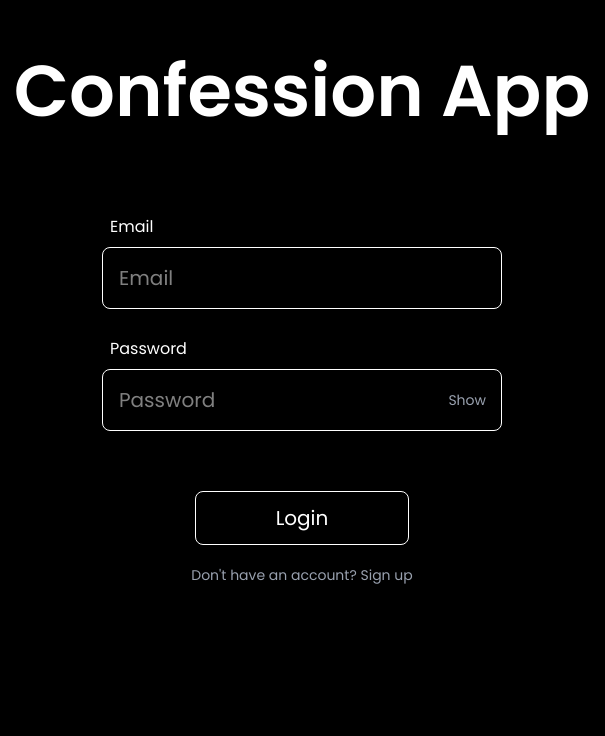
Test: Form › shows error for email already in use
The width and height of the screenshot is (605, 736).
Click the text "Don't have an account? Sign up" at (302, 575), box [191,565,413,585]
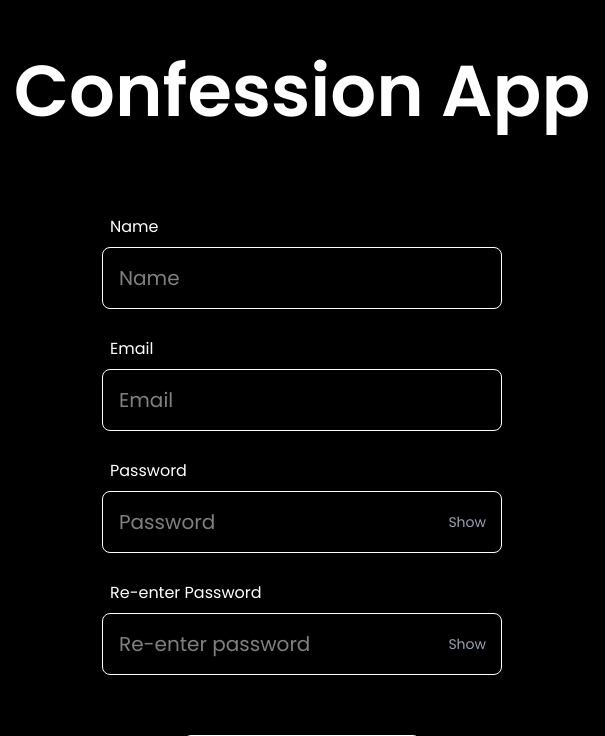
Type "taken@test.com" into the field with placeholder "Email" at (302, 400), box [102,369,502,431]
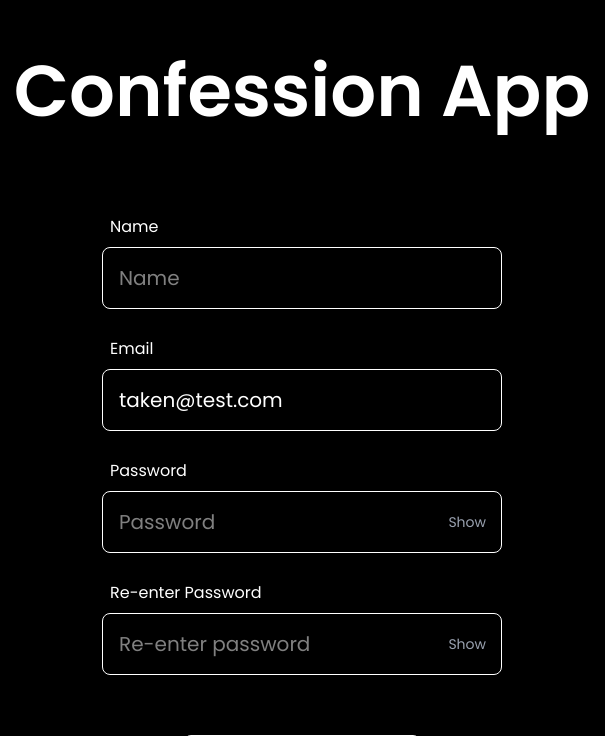
Type "123456" into the password field with placeholder "Password" at (302, 522), box [102,491,502,553]
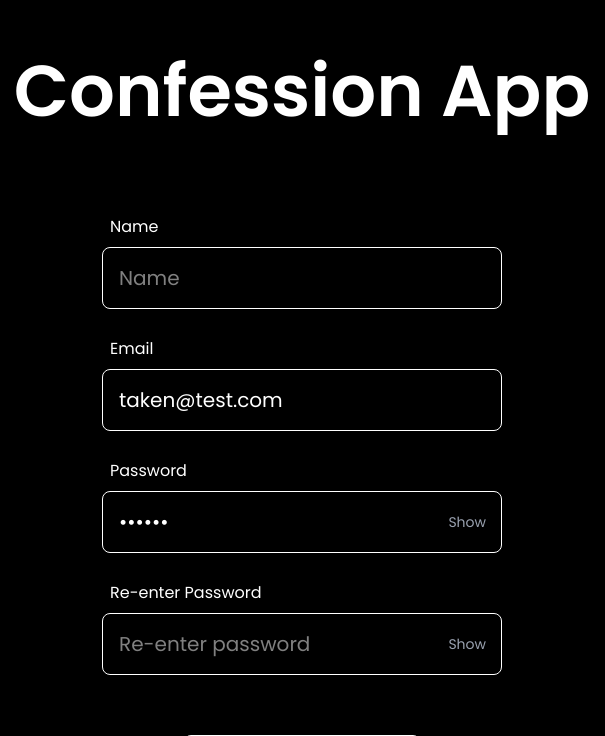
Type "Alice" into the field with placeholder "Name" at (302, 278), box [102,247,502,309]
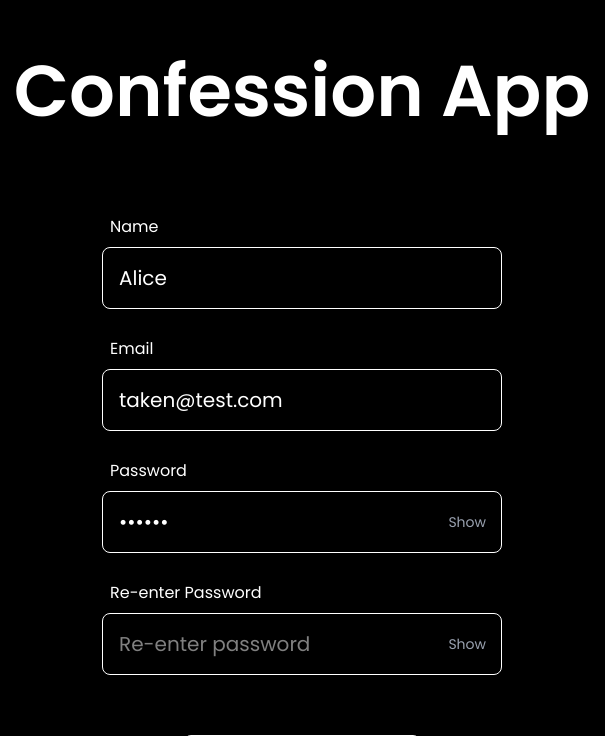
Type "123456" into the password field with placeholder "Re-enter password" at (302, 644), box [102,613,502,675]
(page scrolled)
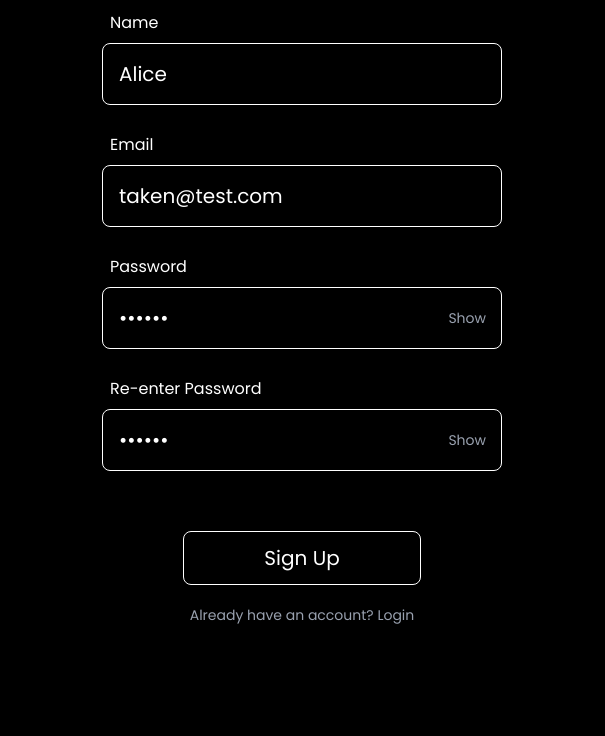
Click the button "Sign Up" at (302, 558), box [183,531,421,585]
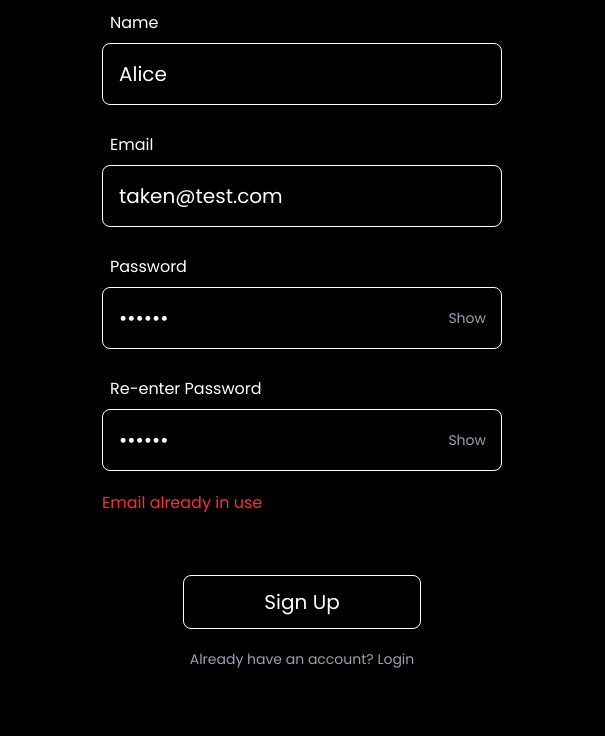
Now the text "Email already in use" is shown, box [102,491,262,514]
